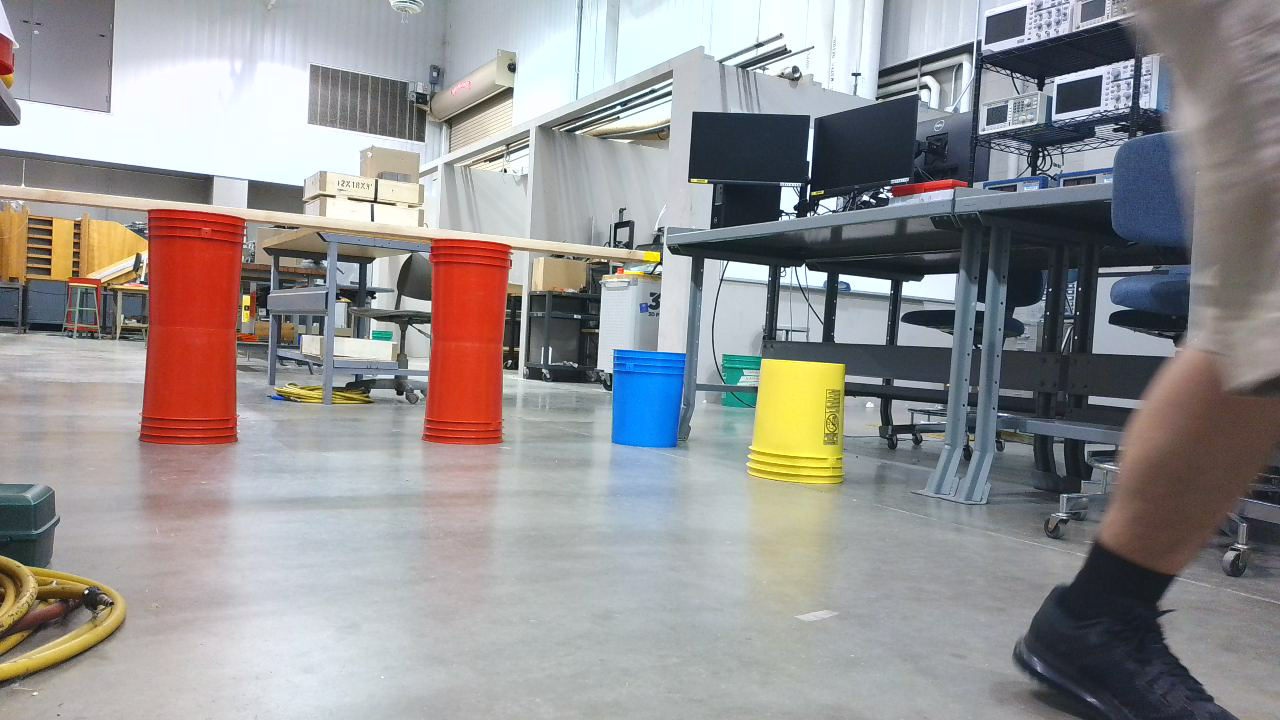blue_bucket: (613, 351, 694, 457)
red_bucket_arch: (139, 207, 523, 456)
yellow_bucket: (748, 359, 855, 493)
